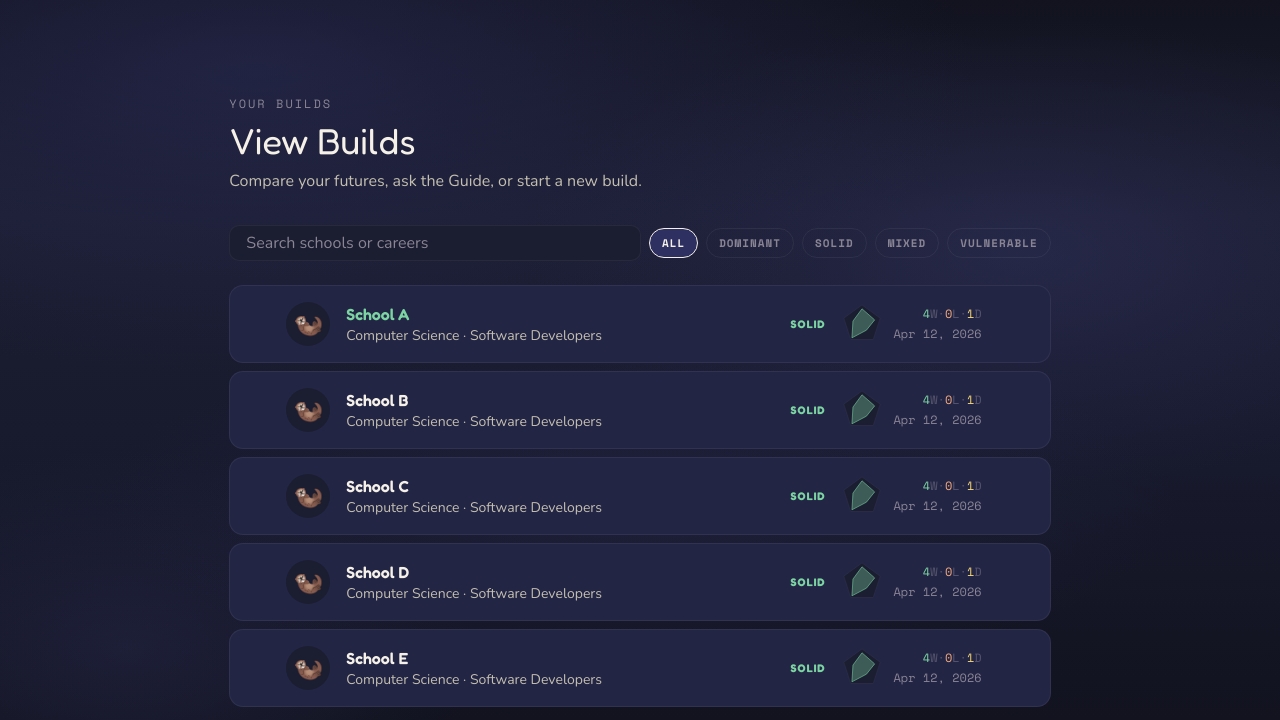
Scenario: MenuScreen › allows selecting up to 4 builds in select mode; rejects the 5th (P1)
This screenshot has width=1280, height=720.
Note: Select 4 builds — all should succeed.
Click the button with test id "card-build-build-a" at x=308, y=324, box 229,285 -> 1051,363
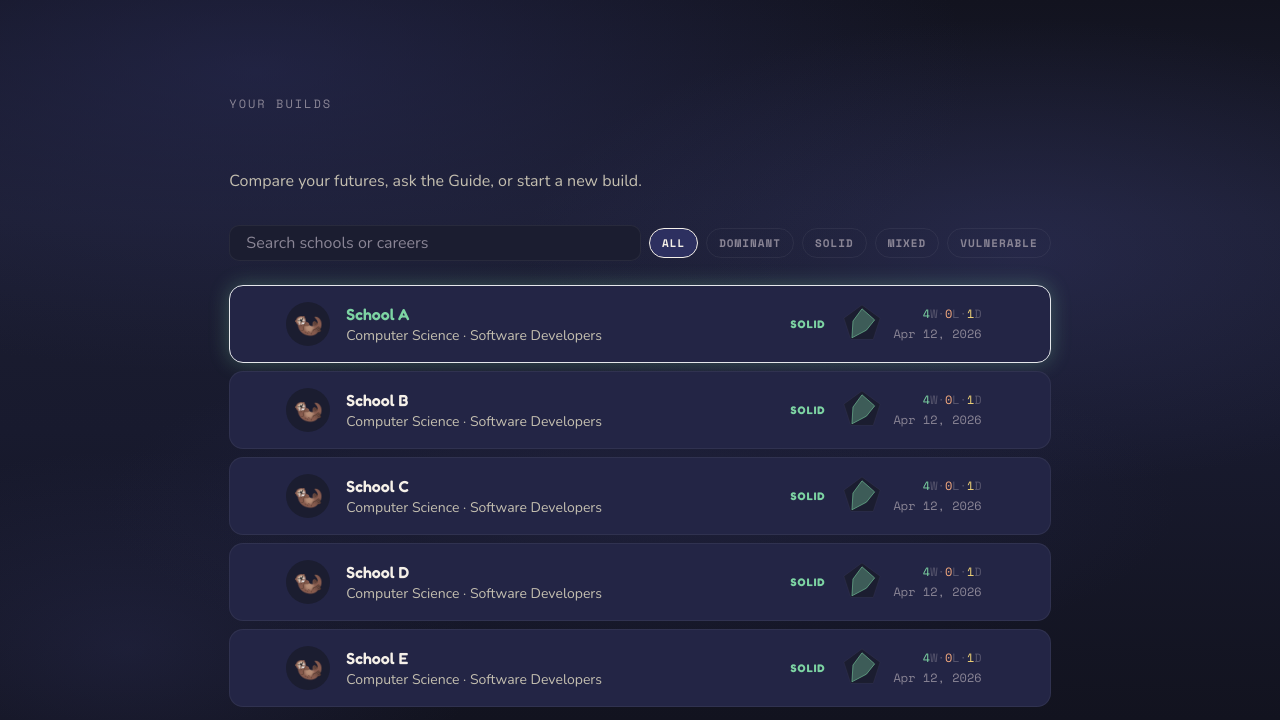
Click the button with test id "card-build-build-b" at x=308, y=410, box 229,371 -> 1051,449
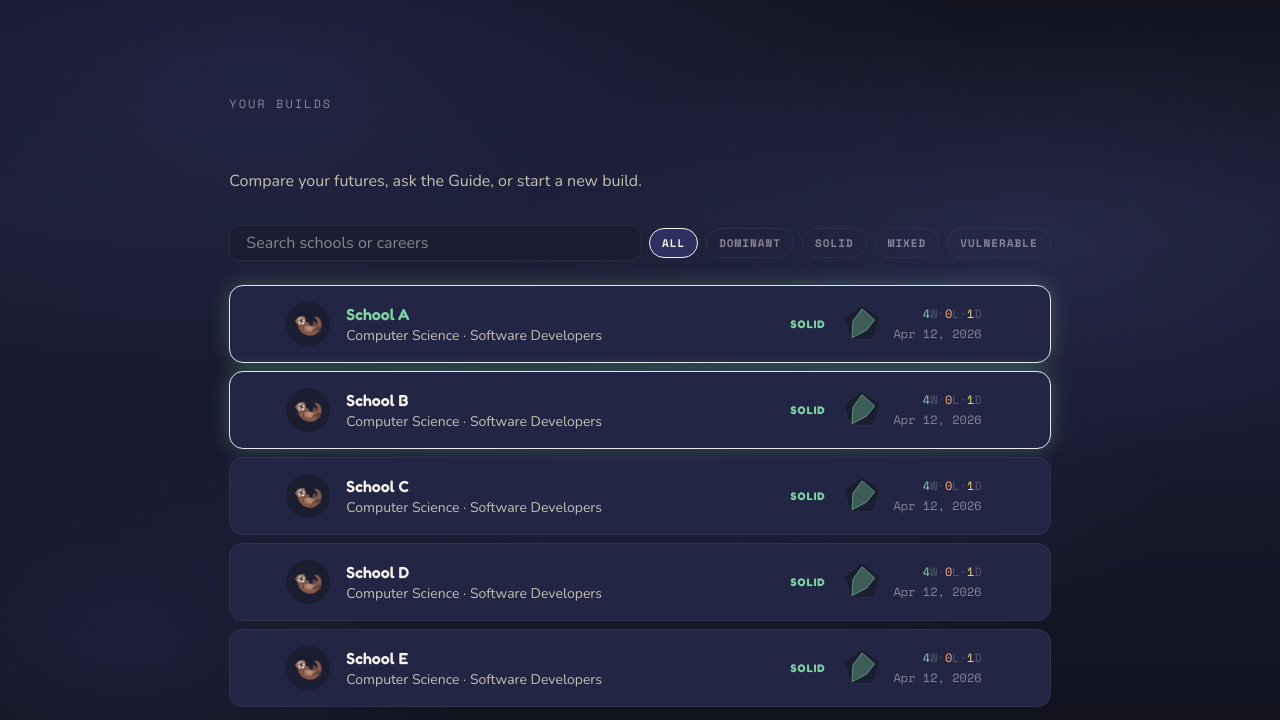
Click the button with test id "card-build-build-c" at x=308, y=496, box 229,457 -> 1051,535
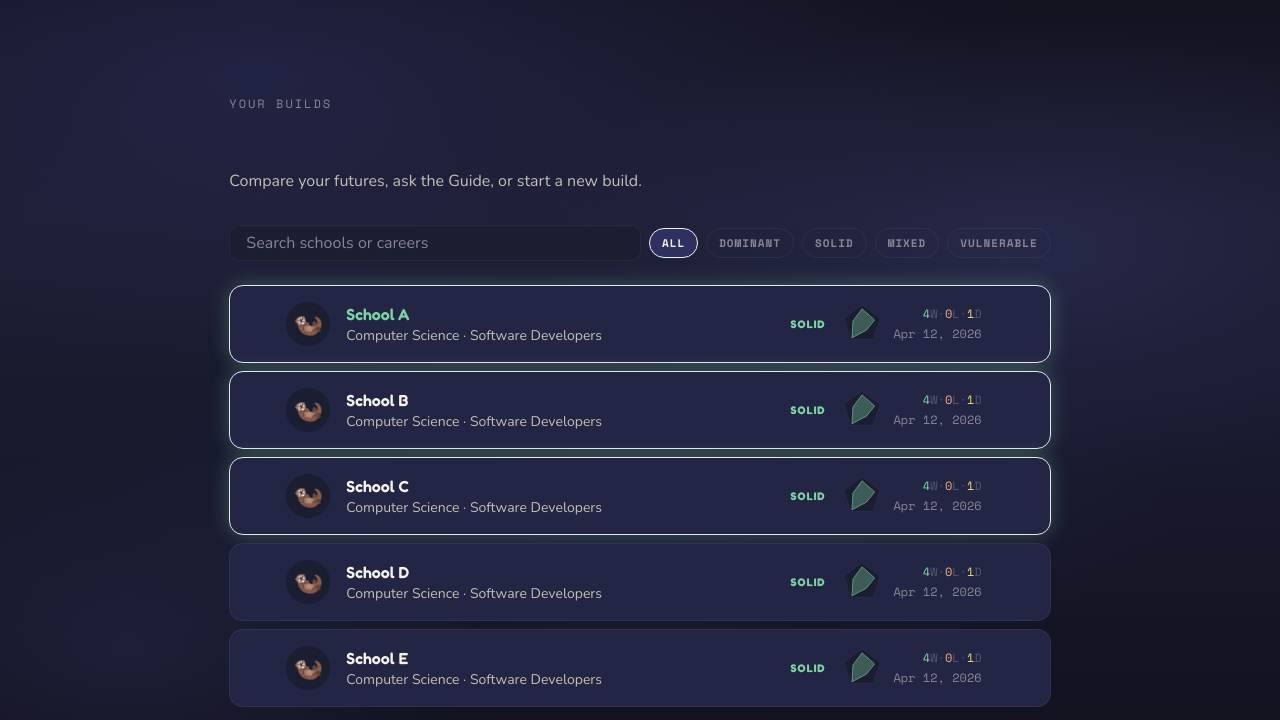
Click the button with test id "card-build-build-d" at x=308, y=582, box 229,543 -> 1051,621
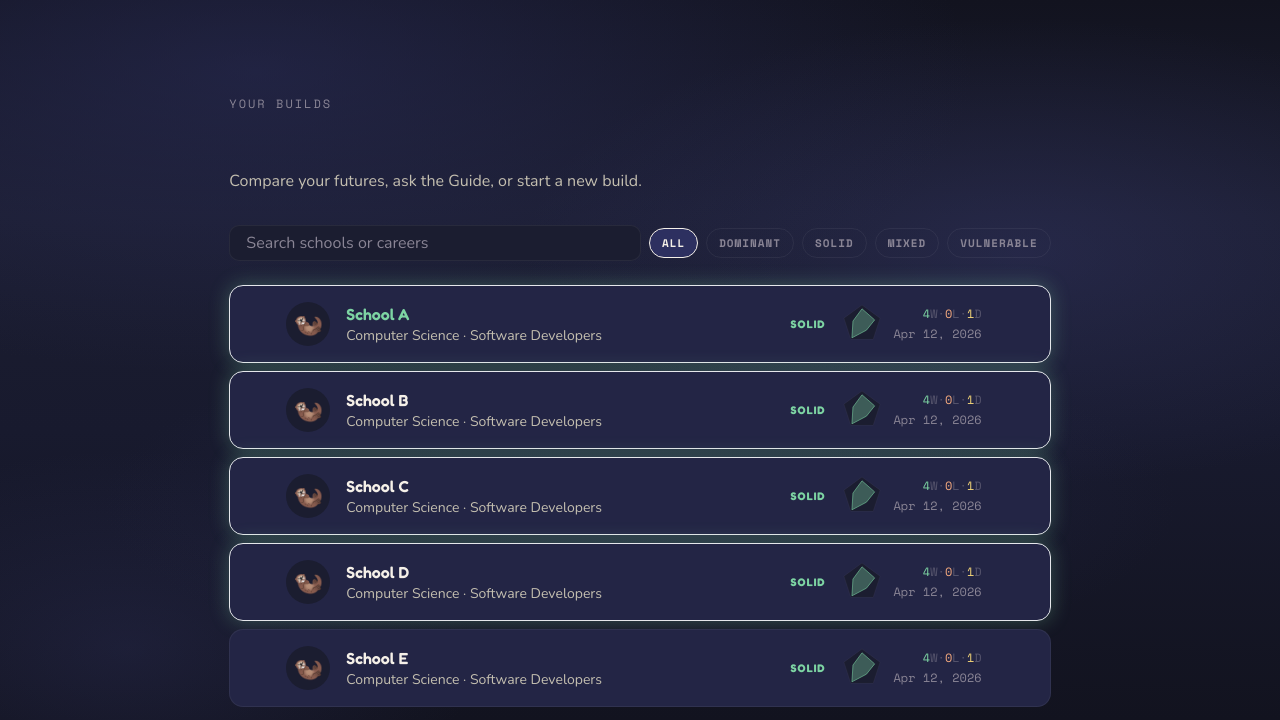
Note: Click a 5th build — must be silently rejected (cap at 4).
Click the button with test id "card-build-build-e" at x=308, y=668, box 229,629 -> 1051,707
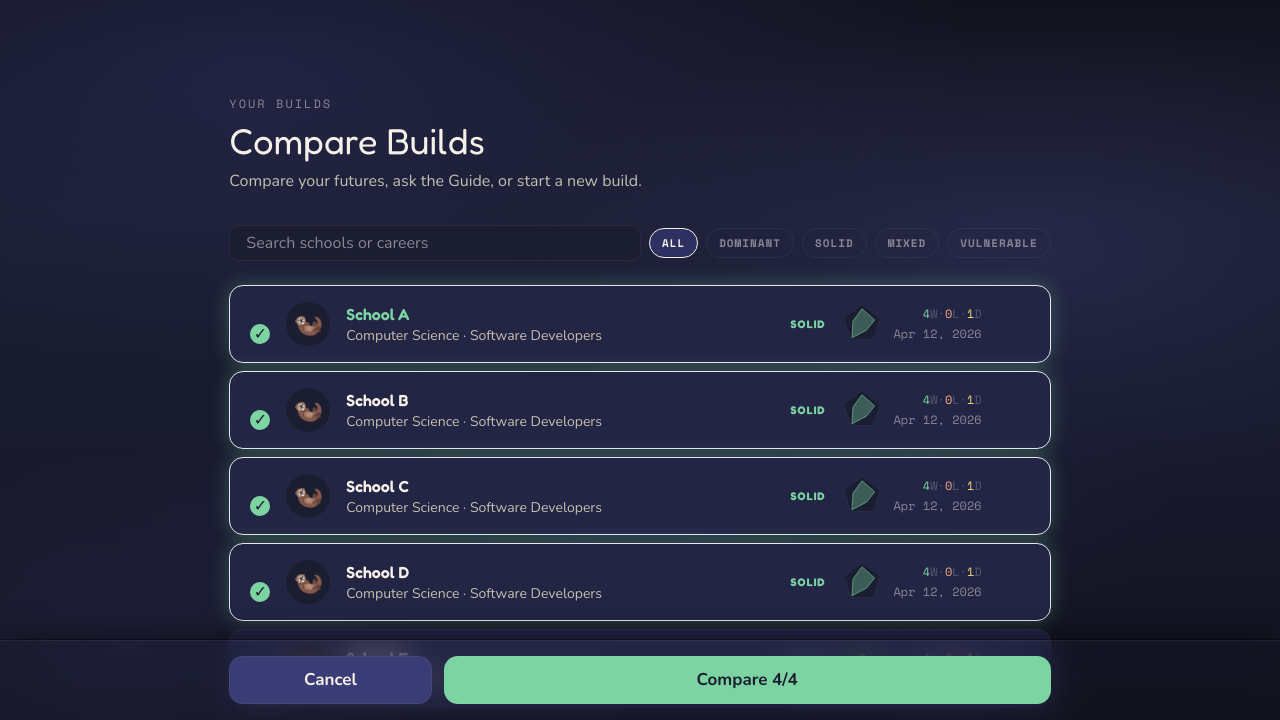
Check: the button with test id "btn-compare" reads "Compare 4/4", box 444,656 -> 1051,704
